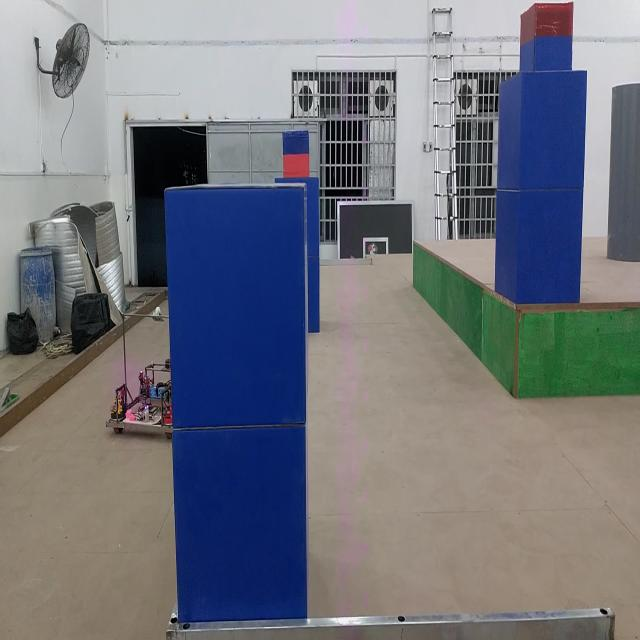earth_block: (165, 183, 308, 430), (172, 425, 310, 623), (495, 68, 588, 193), (494, 191, 586, 302)
sky_block: (519, 1, 575, 74), (282, 129, 310, 177)
